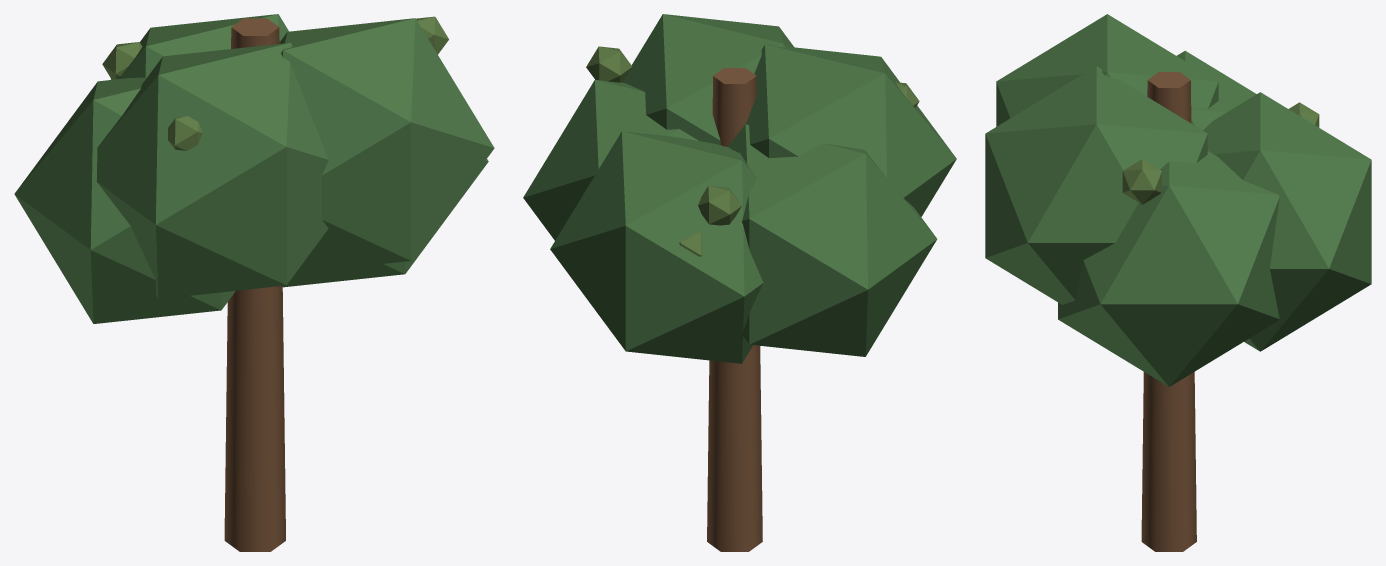
File: crop-avocado-tree-stage-4-fruiting.glb
3 renders of one model, left to right at view 1: azimuth 30°, elevation 25°; view 2: azimuth 150°, elevation 25°; view 3: azimuth 270°, elevation 25°, orthographic. The views are drawn at different scales.
Parts seen in each view (by area): view 1: crop-avocado-tree-stage-4-fruiting-beach-foliage, crop-avocado-tree-stage-4-fruiting-beach-trunk, crop-avocado-tree-stage-4-fruiting-beach-fruit; view 2: crop-avocado-tree-stage-4-fruiting-beach-foliage, crop-avocado-tree-stage-4-fruiting-beach-trunk, crop-avocado-tree-stage-4-fruiting-beach-fruit; view 3: crop-avocado-tree-stage-4-fruiting-beach-foliage, crop-avocado-tree-stage-4-fruiting-beach-trunk, crop-avocado-tree-stage-4-fruiting-beach-fruit.
Part boxes in pixels (x1=…): crop-avocado-tree-stage-4-fruiting-beach-foliage: x1=14, y1=14, x2=494, y2=323; crop-avocado-tree-stage-4-fruiting-beach-trunk: x1=224, y1=18, x2=285, y2=551; crop-avocado-tree-stage-4-fruiting-beach-fruit: x1=102, y1=16, x2=448, y2=150; crop-avocado-tree-stage-4-fruiting-beach-foliage: x1=523, y1=14, x2=956, y2=363; crop-avocado-tree-stage-4-fruiting-beach-trunk: x1=707, y1=68, x2=762, y2=551; crop-avocado-tree-stage-4-fruiting-beach-fruit: x1=586, y1=46, x2=919, y2=256; crop-avocado-tree-stage-4-fruiting-beach-foliage: x1=985, y1=14, x2=1371, y2=386; crop-avocado-tree-stage-4-fruiting-beach-trunk: x1=1141, y1=72, x2=1196, y2=551; crop-avocado-tree-stage-4-fruiting-beach-fruit: x1=1122, y1=102, x2=1319, y2=204.
Size of the model in its own units: 2.1 by 2.7 by 2.01.
